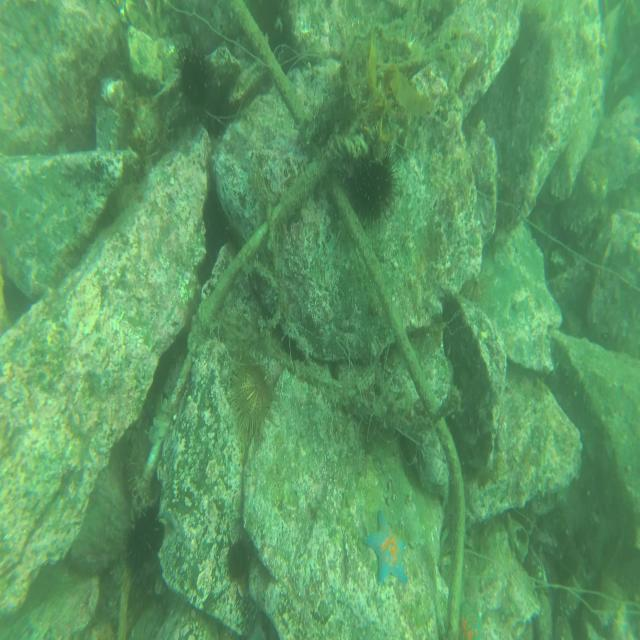echinus: (228, 354, 278, 439), (346, 150, 399, 223), (173, 41, 214, 111), (126, 510, 158, 566), (226, 536, 250, 582)
starfish: (363, 507, 411, 588), (454, 596, 486, 640)
